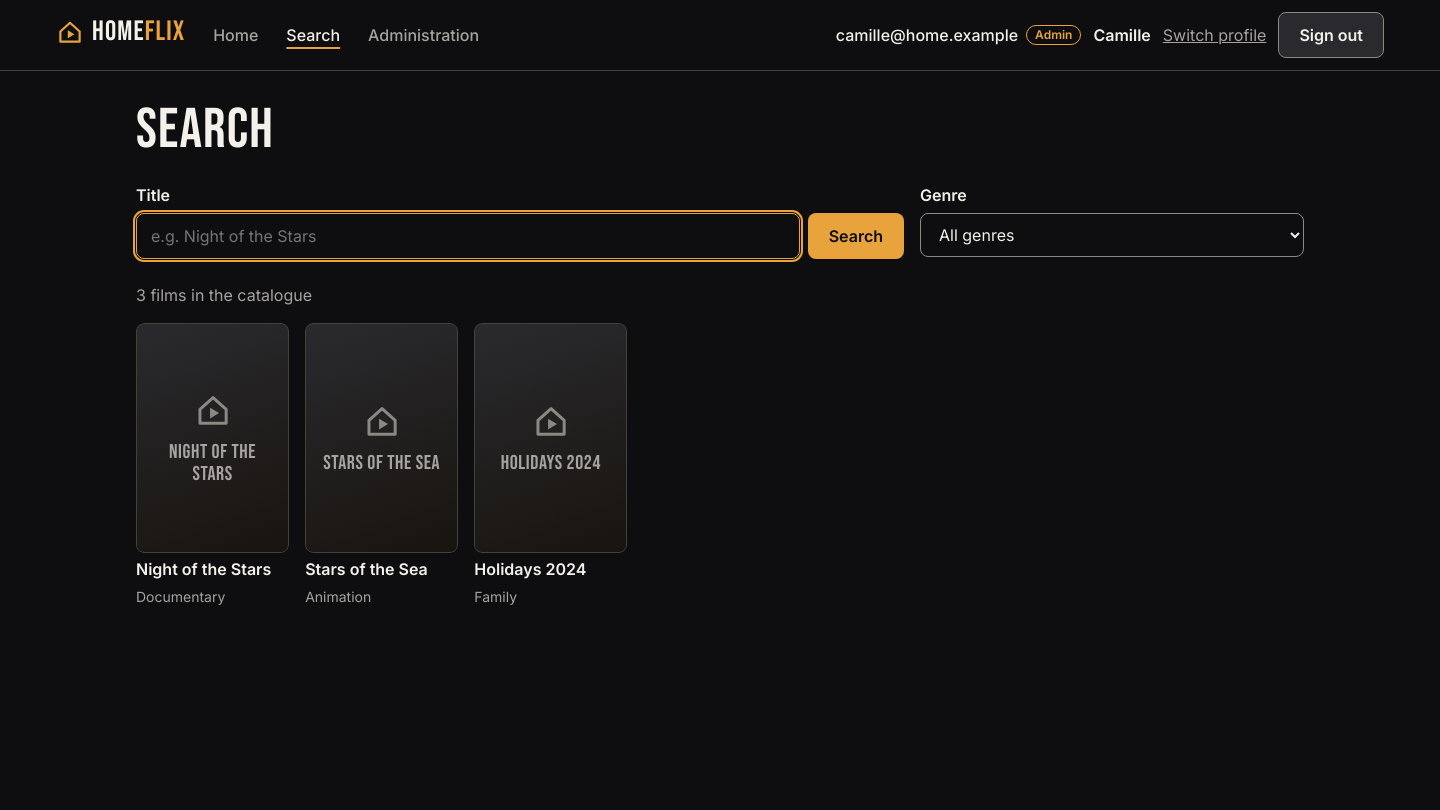
SearchPage › searches by title
Step 1. Type "stars" into the search field labelled "Title" → (468, 236), box [136,213,800,259]
Then press Enter
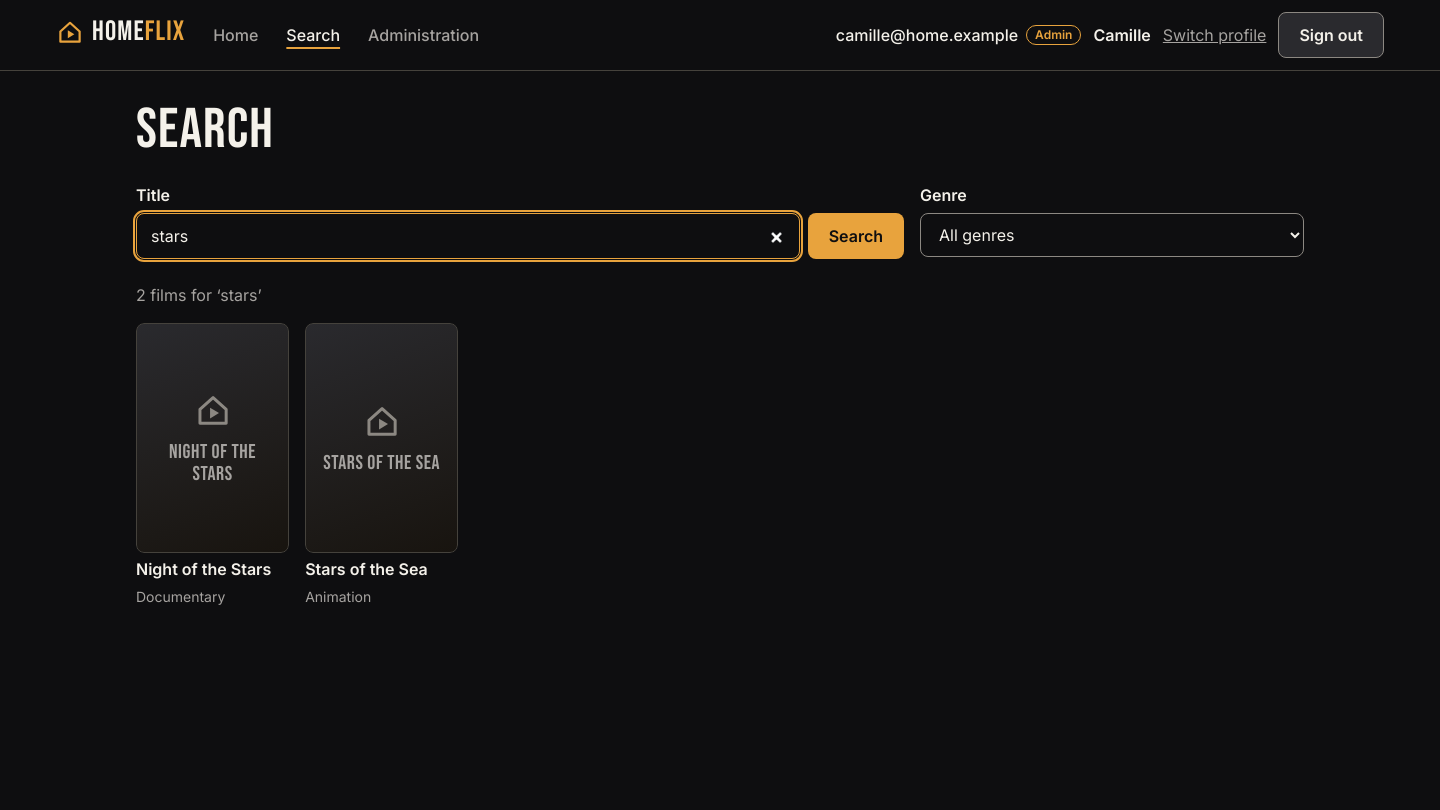
Check: the message reads "2 films for ‘stars’", box [136,285,262,305]
